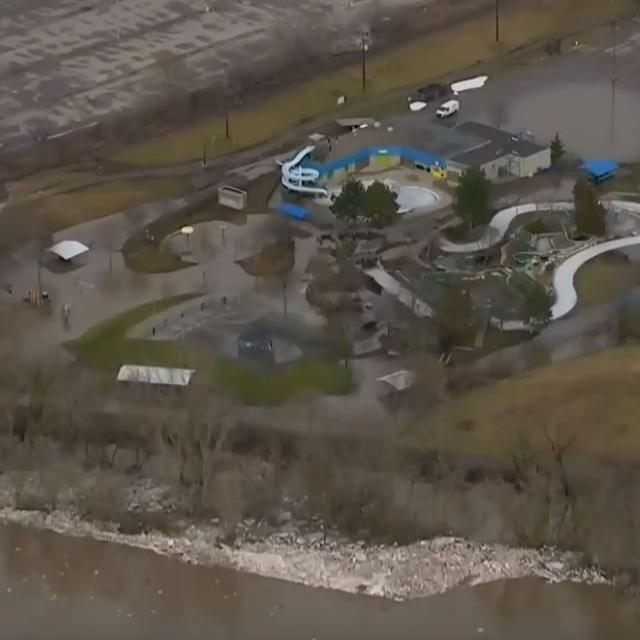flooded_areas: (5, 75, 639, 386)
